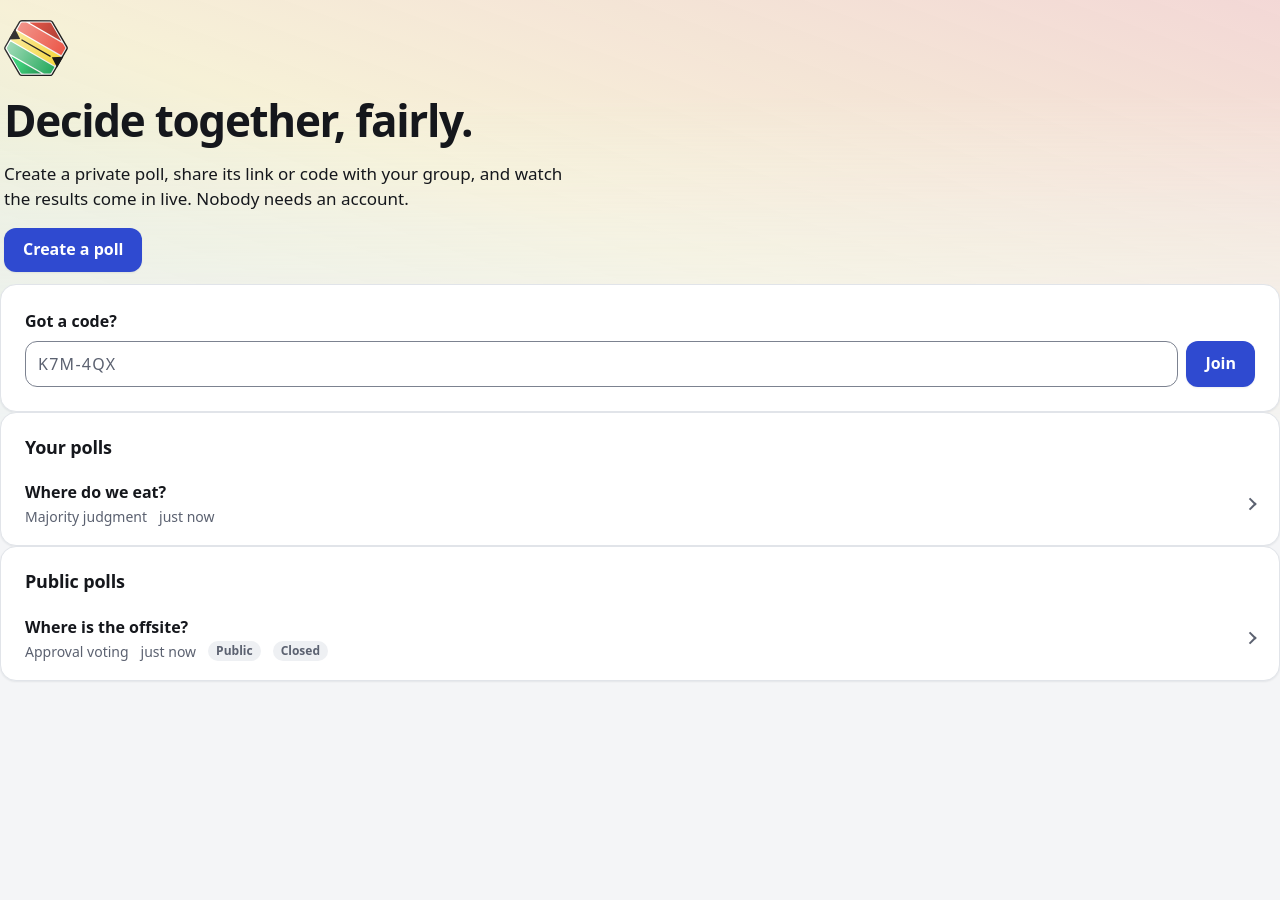
Test: the home page › says when no poll has the code
Type "AAAAAA" into the field labelled "Got a code?".
click(602, 364); type("AAAAAA")  # box left=25, top=341, right=1178, bottom=387
Then press Enter
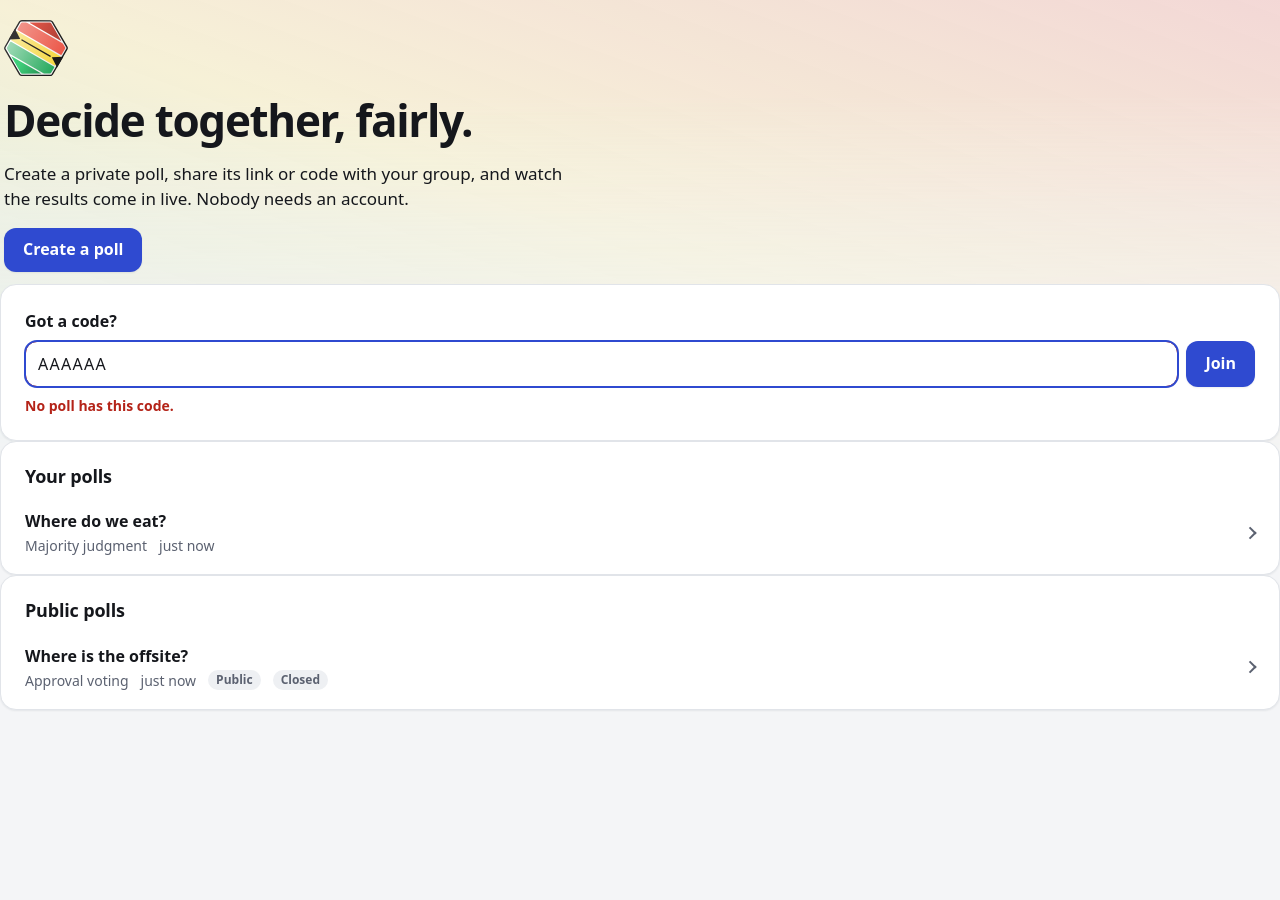
Now the message reads "No poll has this code.", box left=25, top=396, right=174, bottom=415
